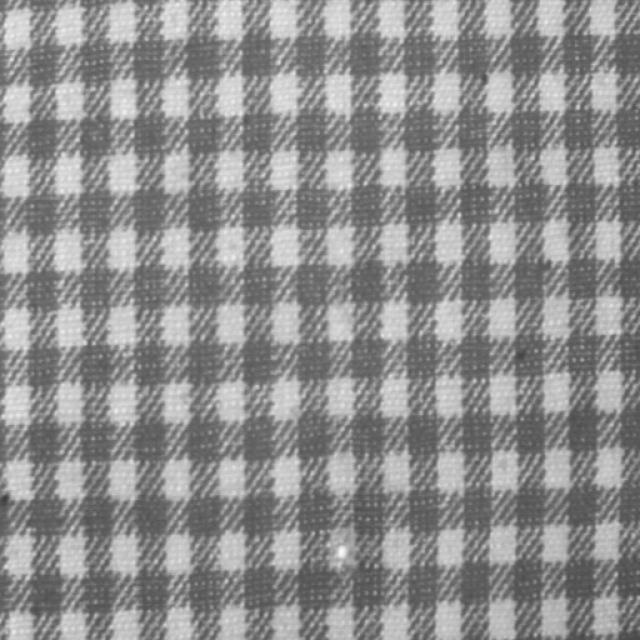Hole-Defect: (334, 546, 346, 561)
